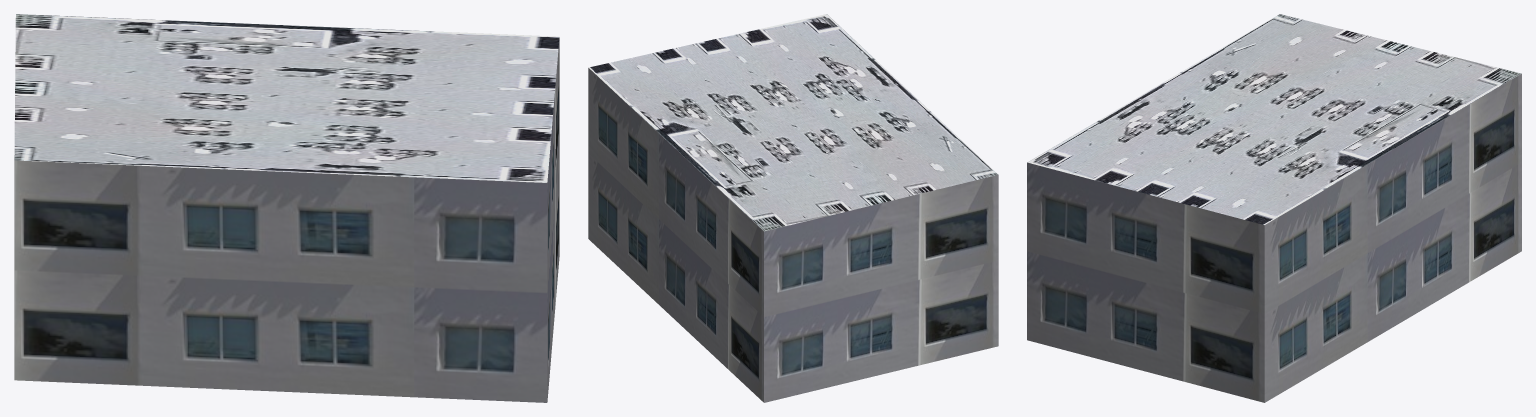
The model's file is ResTex__5171.fbx.
The picture shows the model from 3 angles, left to right: view 1: azimuth 30°, elevation 25°; view 2: azimuth 150°, elevation 25°; view 3: azimuth 270°, elevation 25°; orthographic projection. The views are drawn at different scales.
Parts seen in each view (by area): view 1: CityEngineMaterial_10_m, CityEngineMaterial_8_m; view 2: CityEngineMaterial_10_m, CityEngineMaterial_8_m; view 3: CityEngineMaterial_10_m, CityEngineMaterial_8_m.
Part boxes in pixels (box(x1,y1,x2,y2)): CityEngineMaterial_10_m: box(14, 37, 559, 402); CityEngineMaterial_8_m: box(14, 14, 559, 182); CityEngineMaterial_10_m: box(588, 68, 998, 402); CityEngineMaterial_8_m: box(589, 14, 998, 231); CityEngineMaterial_10_m: box(1027, 73, 1521, 402); CityEngineMaterial_8_m: box(1027, 14, 1521, 224).
Bounding box in the file's own units: 15.29 × 6 × 15.14.
2 materials, 2 textured.
